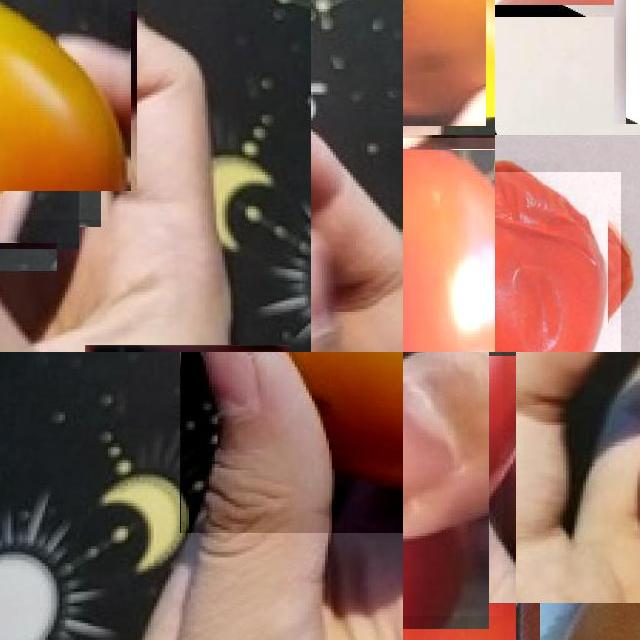Fresh Tomato: (403, 352, 502, 616), (403, 138, 495, 352)
Rotten Tomato: (180, 352, 403, 532), (0, 0, 108, 220), (495, 172, 620, 352), (403, 0, 490, 121)
